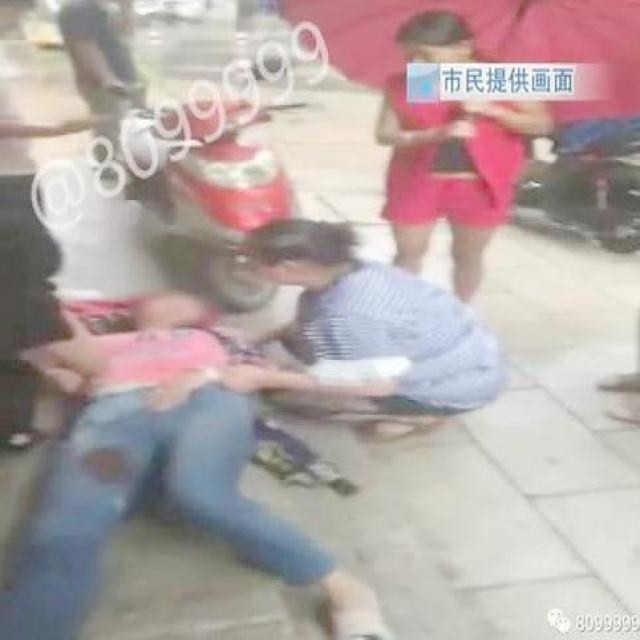fall: (44, 288, 332, 638)
